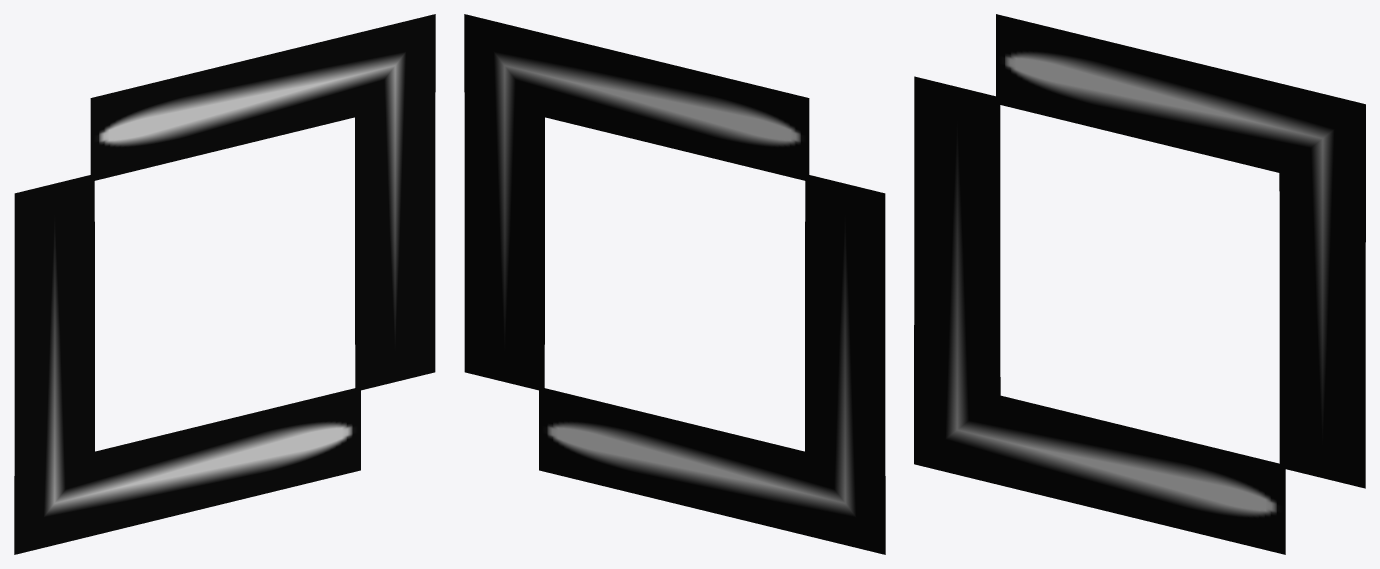
The model's file is daoju_tishi_biankuang.FBX.
The picture shows the model from 3 angles, left to right: view 1: azimuth 30°, elevation 25°; view 2: azimuth 150°, elevation 25°; view 3: azimuth 330°, elevation 25°; orthographic projection. The views are drawn at different scales.
Visible parts, largest first — view 1: Plane001; view 2: Plane001; view 3: Plane001.
Boxes of the visible parts, box(x1,y1,x2,y2) form: Plane001: box(14, 14, 435, 554); Plane001: box(464, 14, 885, 554); Plane001: box(914, 14, 1365, 554).
Bounding box in the file's own units: 74.63 × 74.21 × 3.24e-06.
